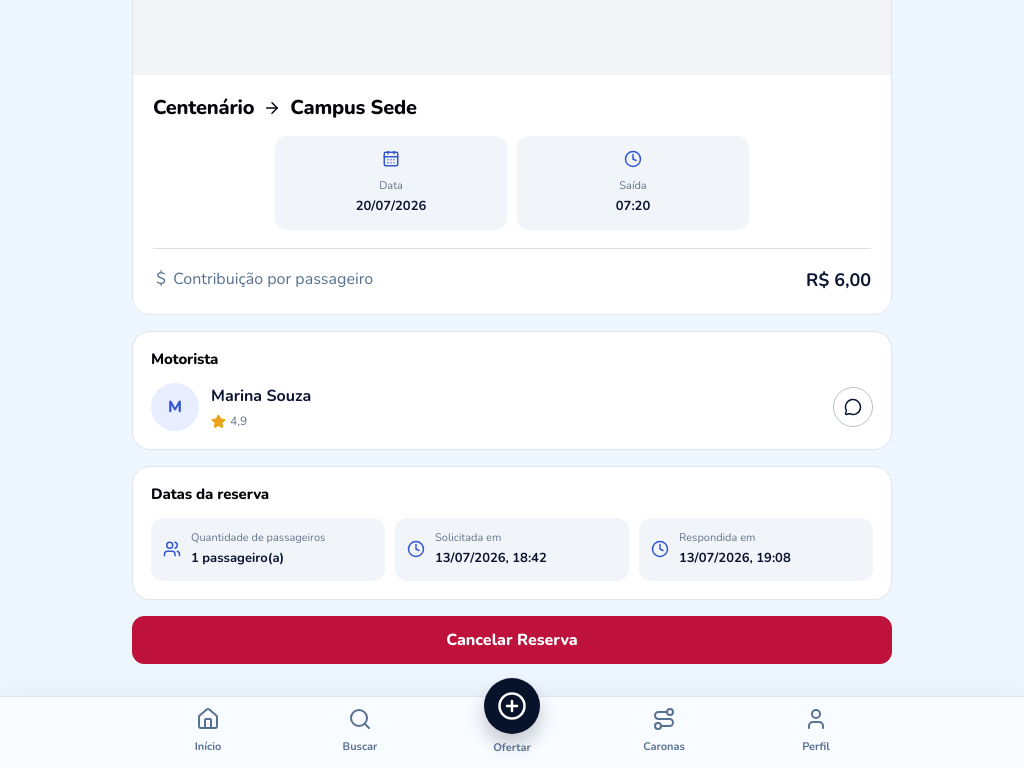
Test: modal de cancelamento › mostra a mensagem de erro dentro do modal quando o cancelamento falha
(page scrolled)
Click the button "Cancelar Reserva" at point(512, 640), box [132,616,892,664]
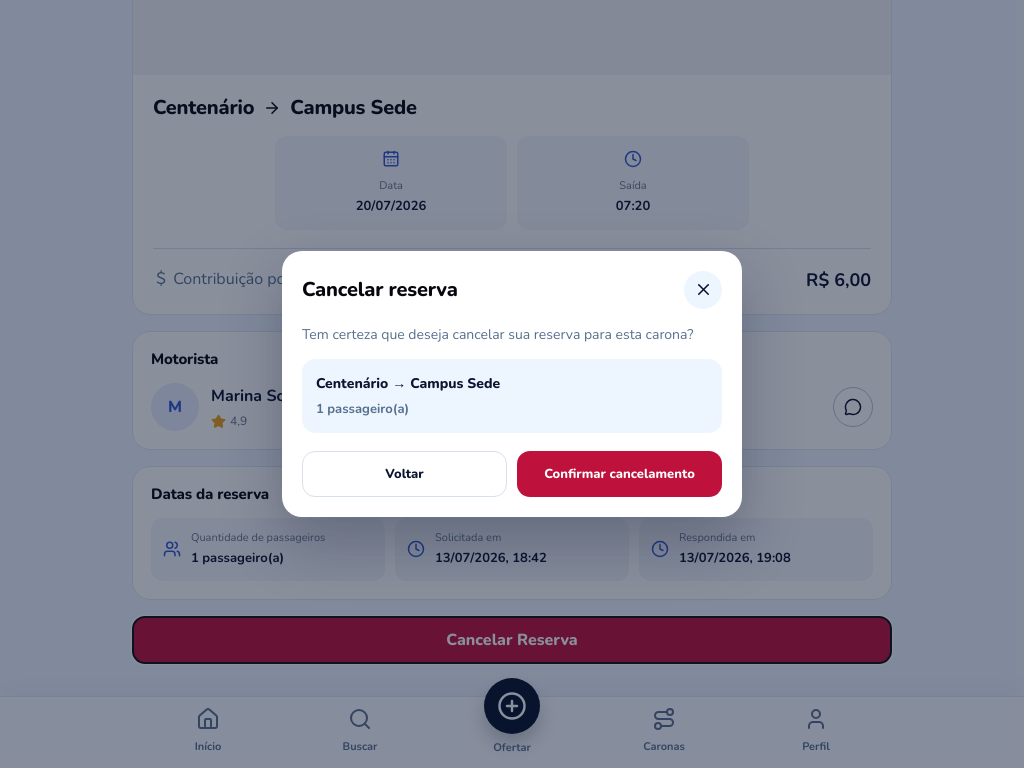
Click the button "Confirmar cancelamento" at point(620, 474), box [517,451,722,497]
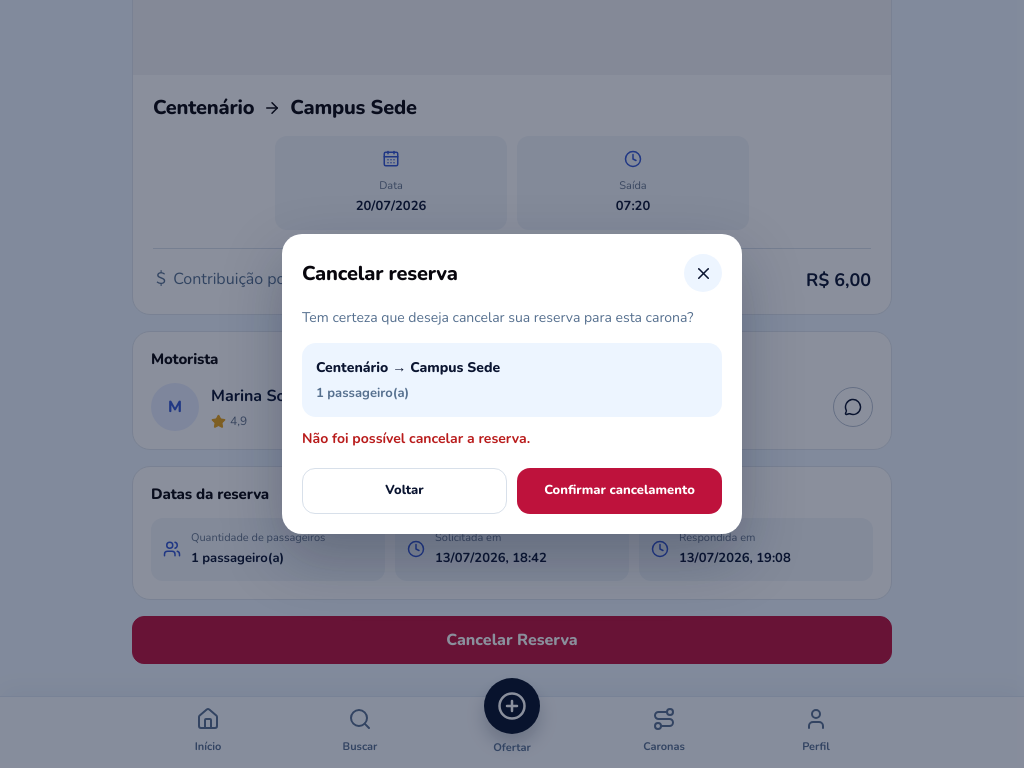
Expected: the dialog is shown, [282,234,742,534]
Expected: the text "Não foi possível cancelar a reserva." is shown, [302,429,530,448]
